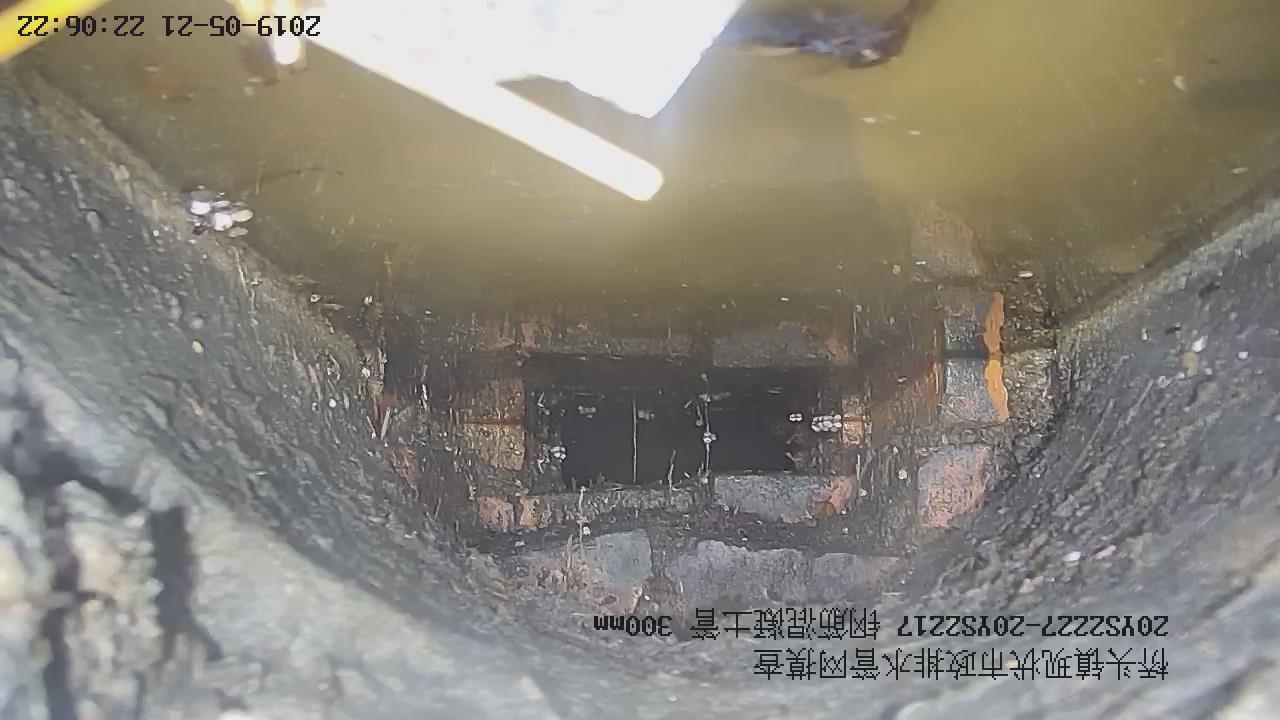CQBG: (372, 349, 1054, 624)
